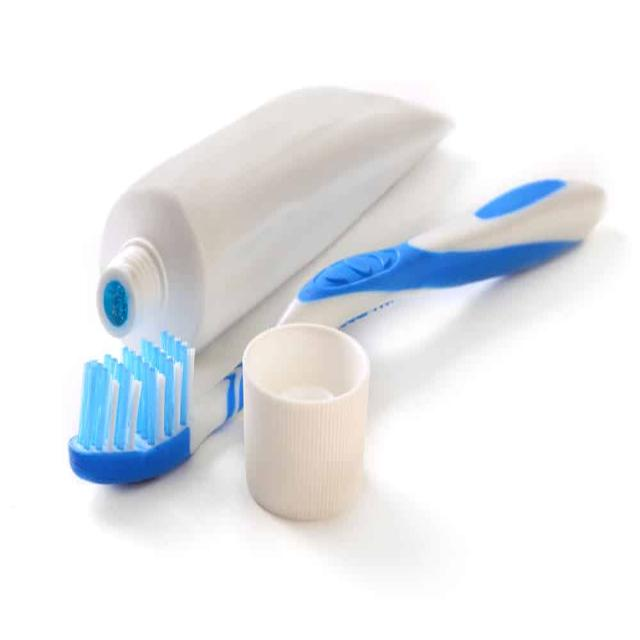toothpaste: (89, 65, 480, 357)
